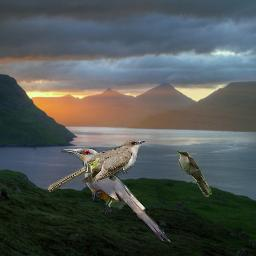Cuckoo: (61, 147, 171, 244), (47, 139, 145, 192), (176, 150, 212, 197)
